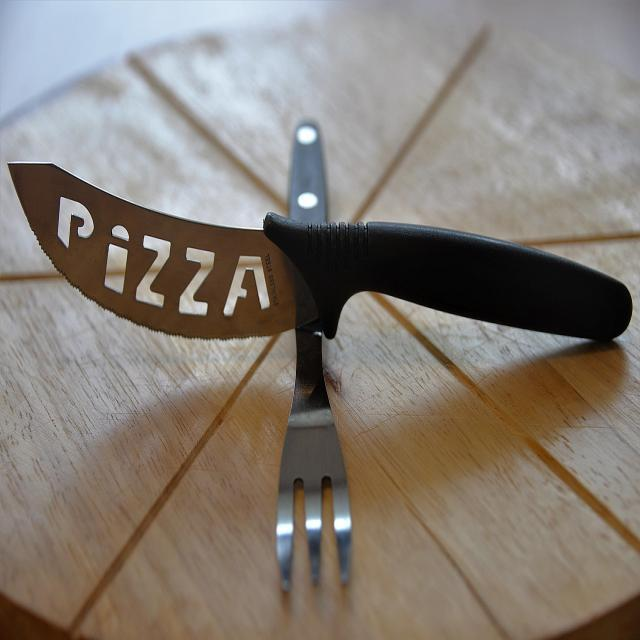Knife: (9, 164, 631, 339)
